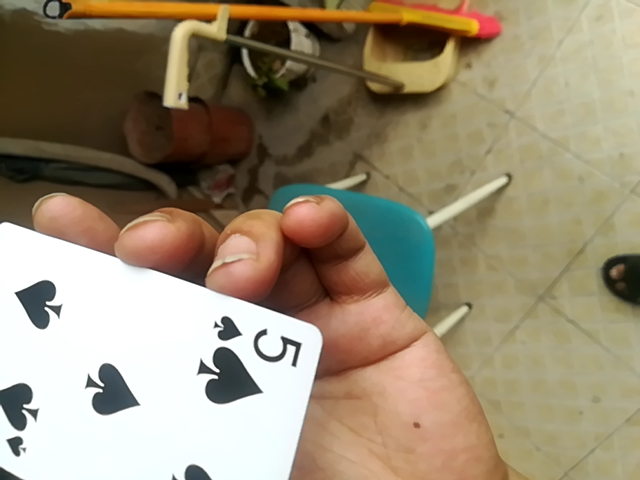ht 5: (0, 205, 319, 479)
